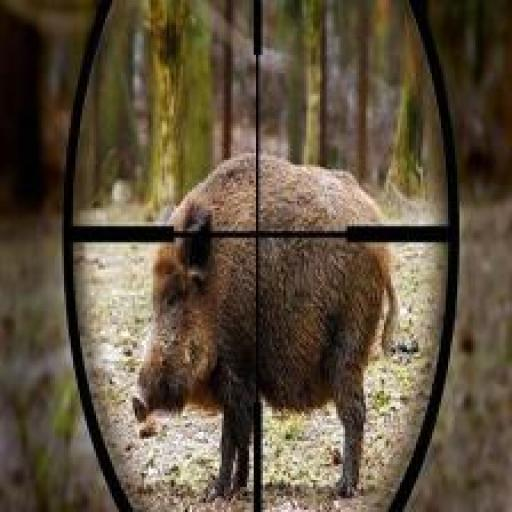Pig: (132, 151, 398, 492)
